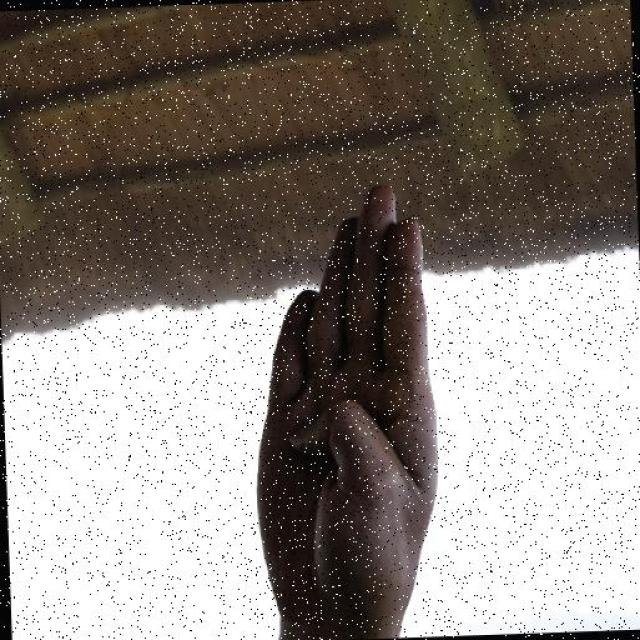B: (243, 173, 448, 626)
